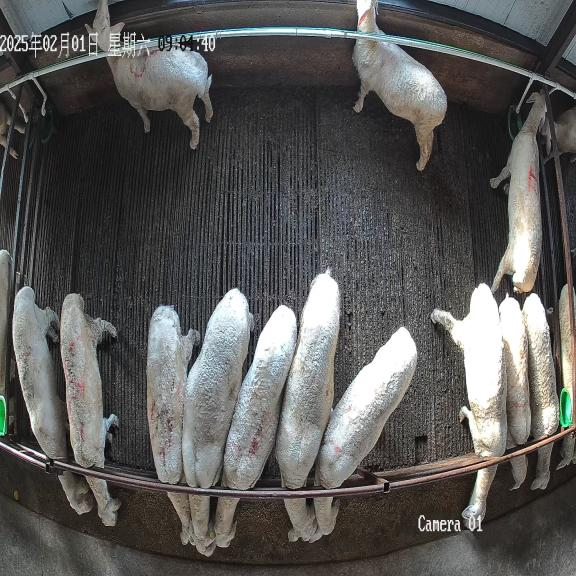eating: (309, 327, 417, 541), (215, 305, 297, 546), (182, 289, 253, 556), (431, 283, 507, 531), (13, 286, 95, 514), (273, 270, 340, 542), (60, 294, 120, 526), (147, 306, 200, 544), (522, 293, 559, 490), (499, 294, 531, 489)
stand: (85, 0, 213, 149), (353, 0, 447, 171), (490, 93, 545, 294)
